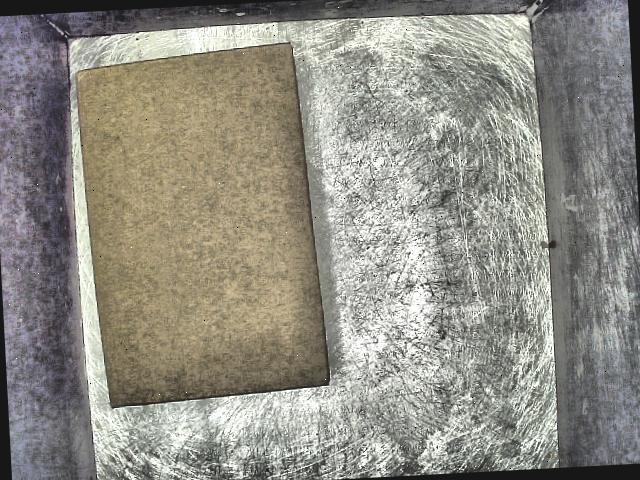Paper: (69, 37, 349, 437)
